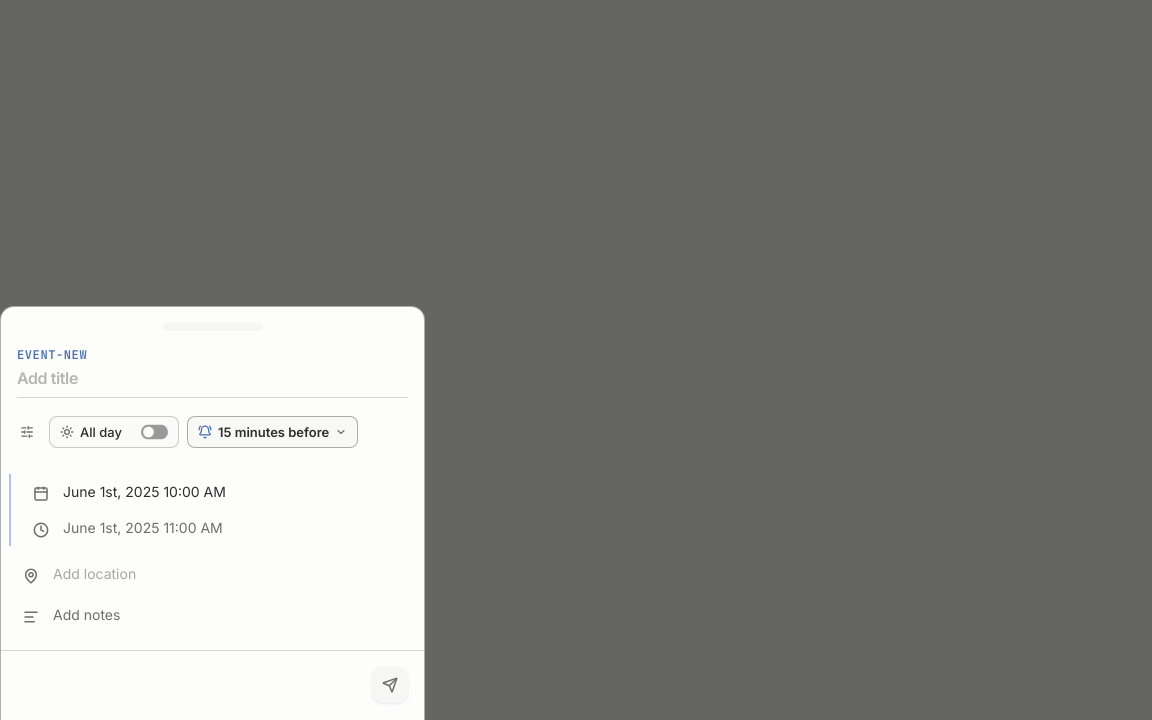
CreateEventDialog — event reminder control › offers only on the day and day before for an all-day event
This screenshot has width=1152, height=720.
Click the switch with id "all-day". click: (154, 432)
box: [141, 424, 168, 440]
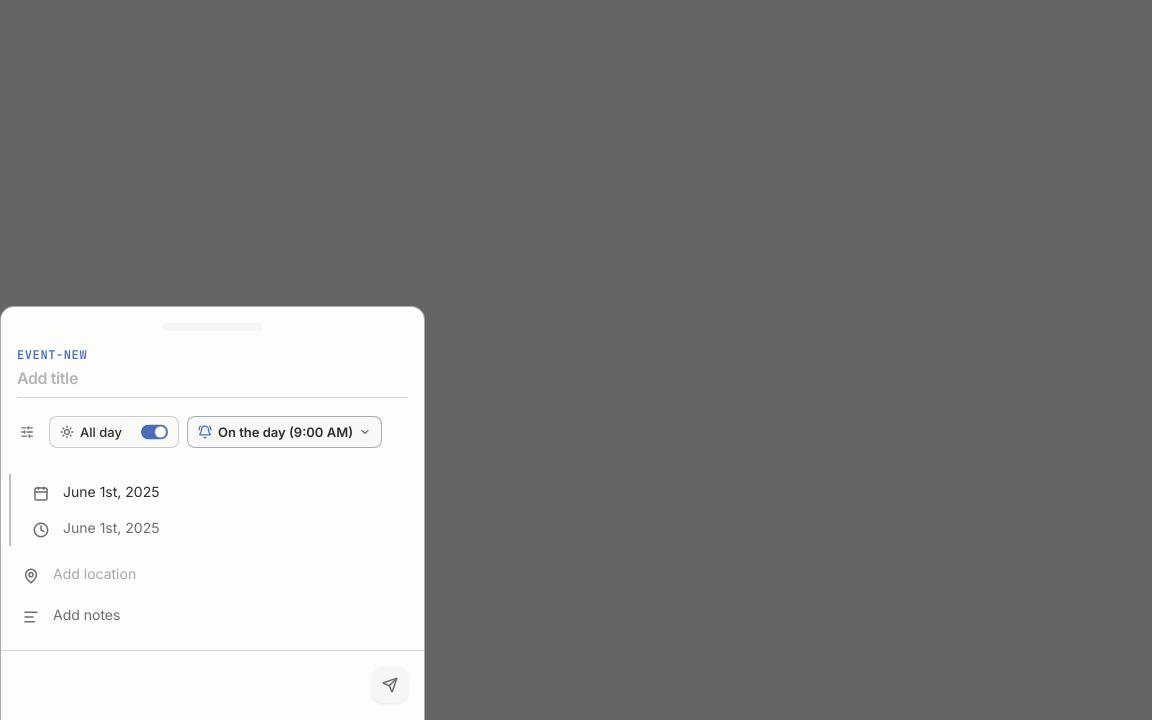
Click the button with aria-label "Reminder". click: (284, 432)
box: [187, 416, 382, 448]
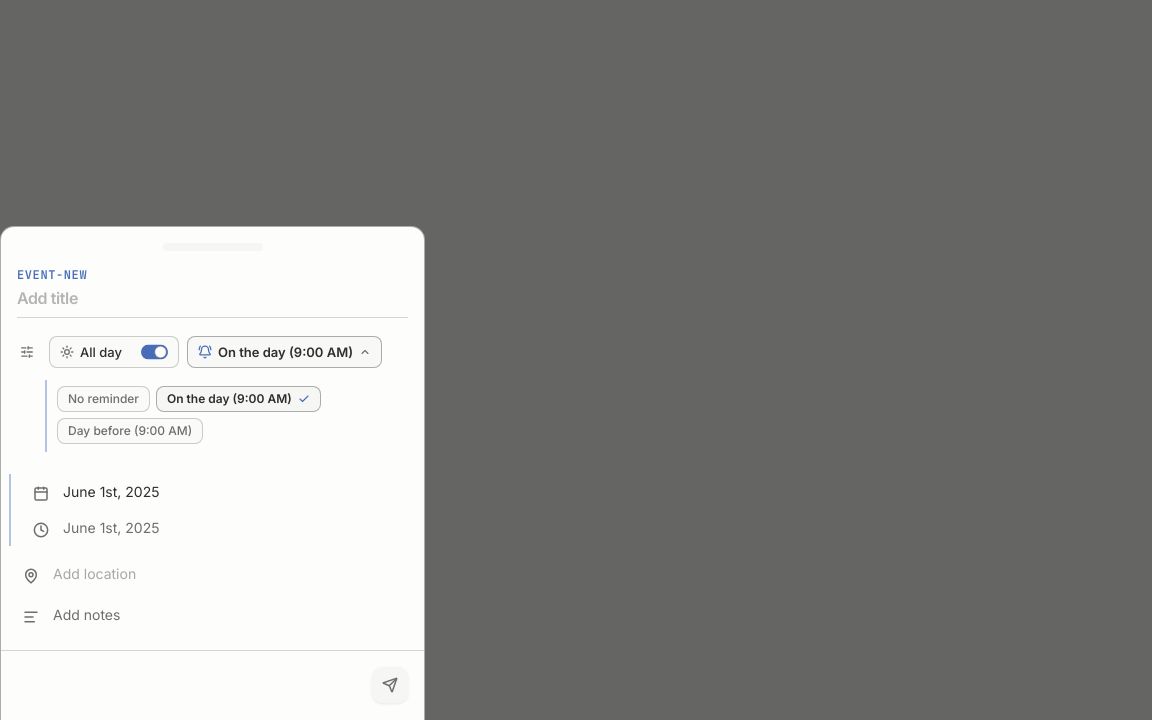
Expected: the buttons read "No reminder", "On the day (9:00 AM)", "Day before (9:00 AM)", in this order, [57, 386, 150, 412]; [156, 386, 321, 412]; [57, 418, 203, 444]
